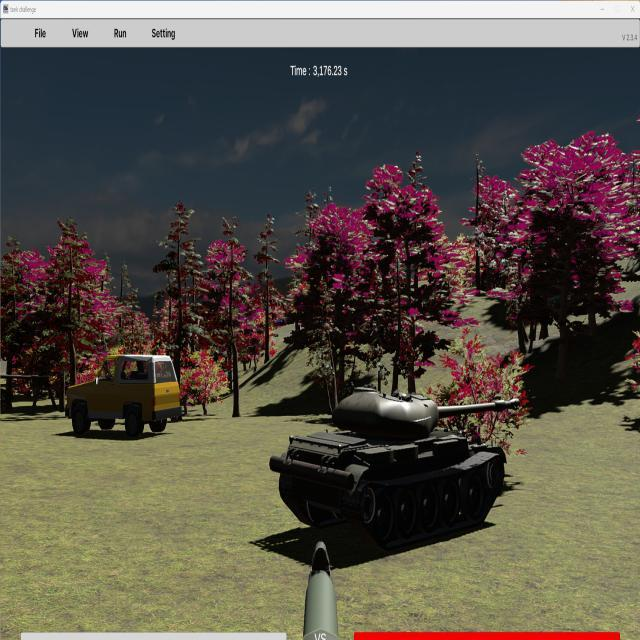Tank: (269, 385, 519, 552)
car: (65, 353, 183, 438)
